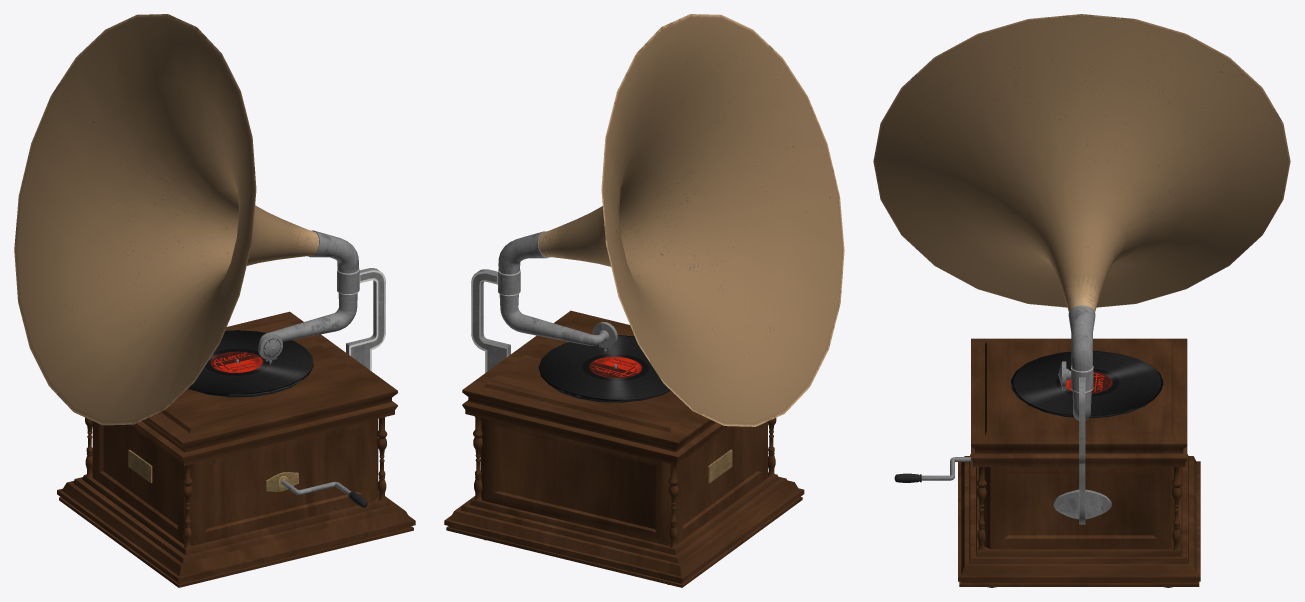
The model's file is gramophone.glb.
3 renders of one model, left to right at view 1: azimuth 30°, elevation 25°; view 2: azimuth 150°, elevation 25°; view 3: azimuth 270°, elevation 25°, orthographic.
Parts seen in each view (by area): view 1: Box002; view 2: Box002; view 3: Box002.
Part boxes in pixels (x1,y1,x2,y2): Box002: (14,14,415,587); Box002: (444,14,844,587); Box002: (873,14,1290,587).
Size of the model in its own units: 1.28 by 2 by 1.49.
Materials: 1 (1 with a texture image).
